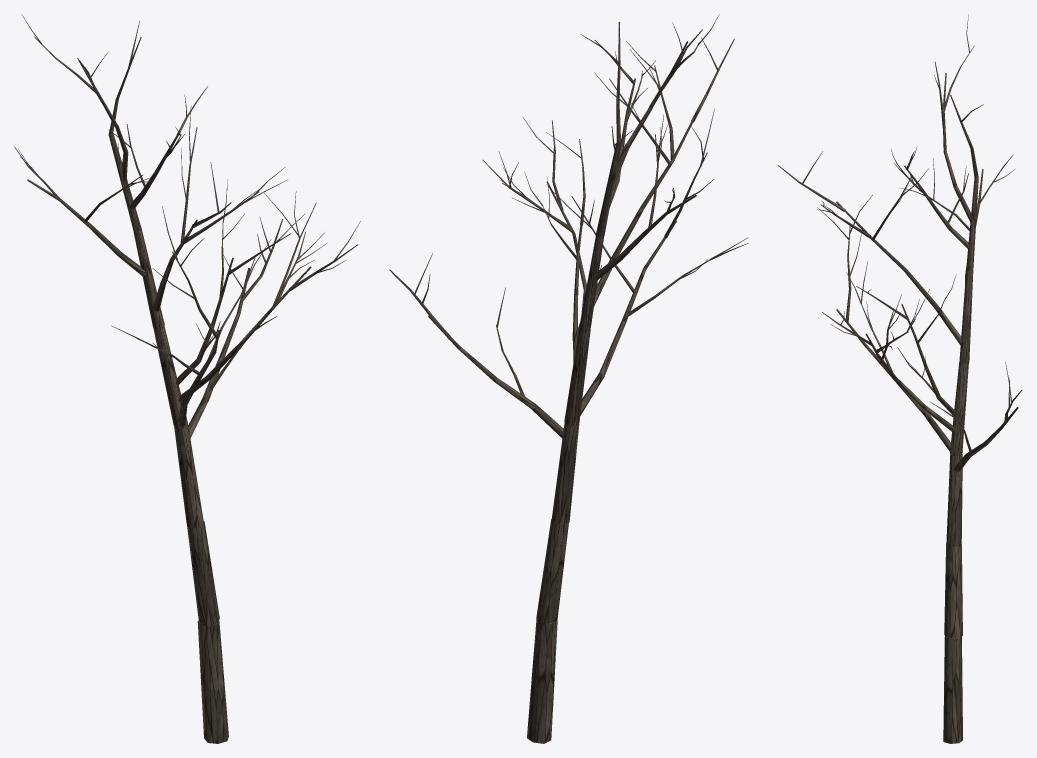
Rendered from S7U_Tree_Full_A.fbx.
3 views of the same model, side by side, from view 1: azimuth 30°, elevation 25°; view 2: azimuth 150°, elevation 25°; view 3: azimuth 270°, elevation 25° (orthographic). The views are drawn at different scales.
Parts seen in each view (by area): view 1: S7U_Tree_Full_A; view 2: S7U_Tree_Full_A; view 3: S7U_Tree_Full_A.
Boxes of the visible parts, <box> form: S7U_Tree_Full_A: <box>14,14,360,743</box>; S7U_Tree_Full_A: <box>389,14,748,743</box>; S7U_Tree_Full_A: <box>777,14,1022,743</box>.
Bounding box in the file's own units: 5.04 × 12.57 × 4.3.
